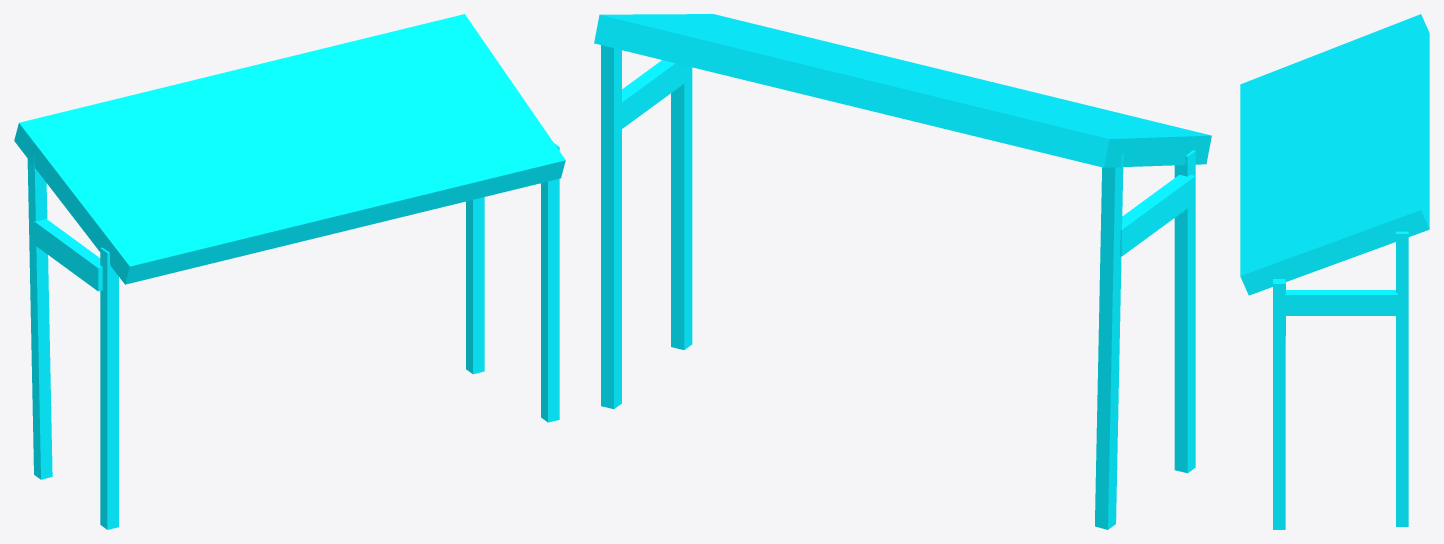
File: SM_Bld_Awning_09_Collision.fbx
The picture shows the model from 3 angles, left to right: view 1: azimuth 30°, elevation 25°; view 2: azimuth 150°, elevation 25°; view 3: azimuth 270°, elevation 25°; orthographic projection. The views are drawn at different scales.
Visible parts, largest first — view 1: SM_Bld_Awning_09_Collision; view 2: SM_Bld_Awning_09_Collision; view 3: SM_Bld_Awning_09_Collision.
Part boxes in pixels (left/top/right/bottom): SM_Bld_Awning_09_Collision: left=14, top=14, right=565, bottom=529; SM_Bld_Awning_09_Collision: left=594, top=14, right=1211, bottom=529; SM_Bld_Awning_09_Collision: left=1240, top=14, right=1429, bottom=529.
Size of the model in its own units: 386 by 281 by 153.
